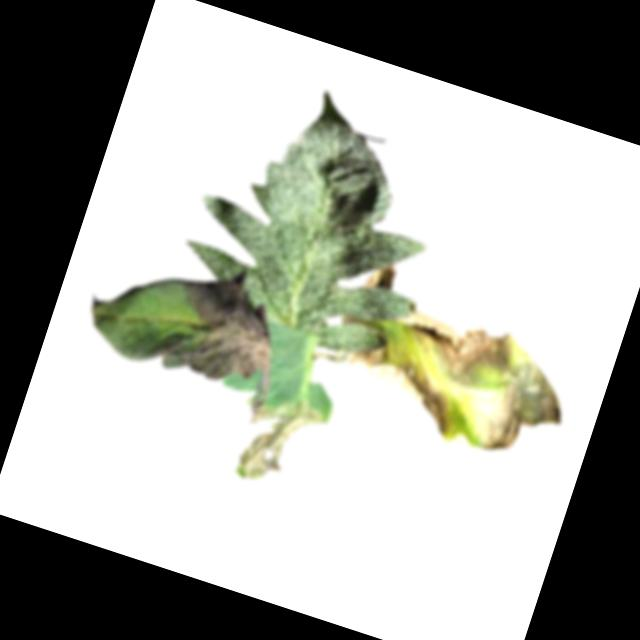Late_blight: (359, 296, 584, 481), (130, 247, 292, 396), (230, 386, 329, 496), (315, 328, 385, 382), (361, 256, 400, 296)
healthy: (168, 64, 471, 367)
